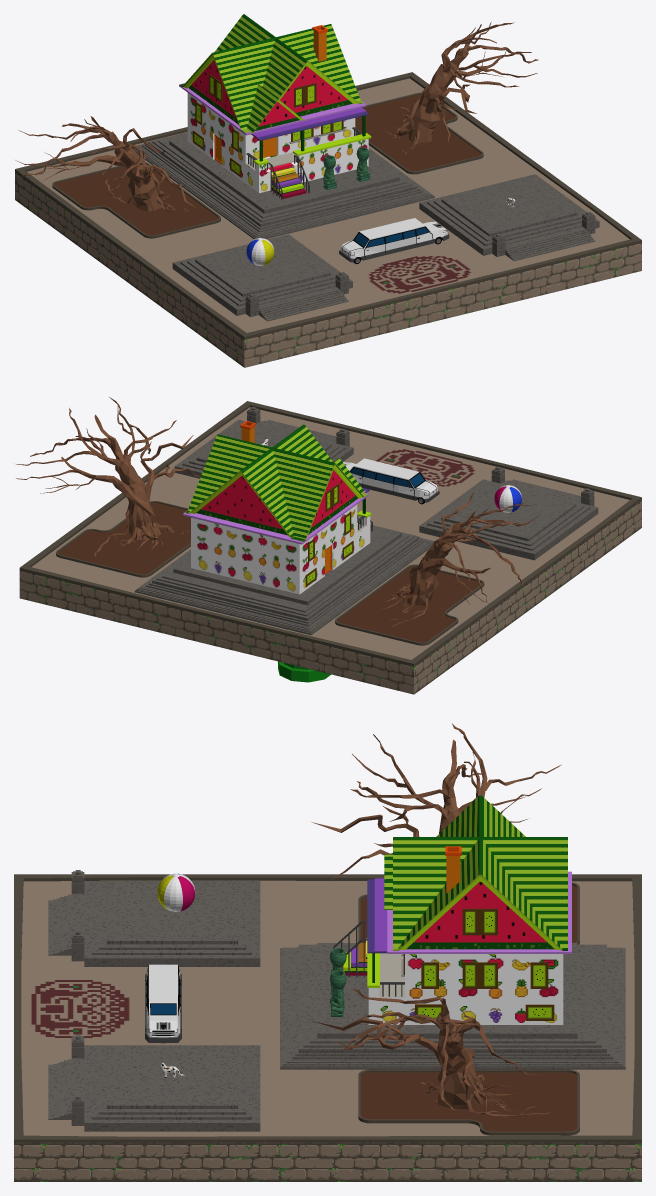
3 views of the same model, one above another, from view 1: azimuth 30°, elevation 25°; view 2: azimuth 150°, elevation 25°; view 3: azimuth 270°, elevation 25° (orthographic). The views are drawn at different scales.
Visible parts, largest first — view 1: Cube.011, Cube.1063, VEHICLES_LIMOUSINE, OBJRANDOM_BEACHBALL; view 2: Cube.011, Cube.1063, VEHICLES_LIMOUSINE, UNDERGROUND_PIPES, OBJRANDOM_BEACHBALL; view 3: Cube.011, Cube.1063, VEHICLES_LIMOUSINE, OBJRANDOM_BEACHBALL.
Boxes of the visible parts, x1=… form: Cube.011: x1=15, y1=22, x2=641, y2=367; Cube.1063: x1=179, y1=14, x2=371, y2=199; VEHICLES_LIMOUSINE: x1=339, y1=218, x2=449, y2=264; OBJRANDOM_BEACHBALL: x1=246, y1=238, x2=274, y2=265; Cube.011: x1=14, y1=397, x2=641, y2=694; Cube.1063: x1=183, y1=421, x2=372, y2=594; VEHICLES_LIMOUSINE: x1=343, y1=458, x2=439, y2=504; UNDERGROUND_PIPES: x1=278, y1=661, x2=331, y2=682; OBJRANDOM_BEACHBALL: x1=494, y1=485, x2=521, y2=512; Cube.011: x1=14, y1=723, x2=641, y2=1181; Cube.1063: x1=333, y1=795, x2=571, y2=1024; VEHICLES_LIMOUSINE: x1=145, y1=964, x2=181, y2=1043; OBJRANDOM_BEACHBALL: x1=157, y1=873, x2=195, y2=911.
Bounding box in the file's own units: 5099 × 2243 × 4000.
34 materials, 7 textured.
